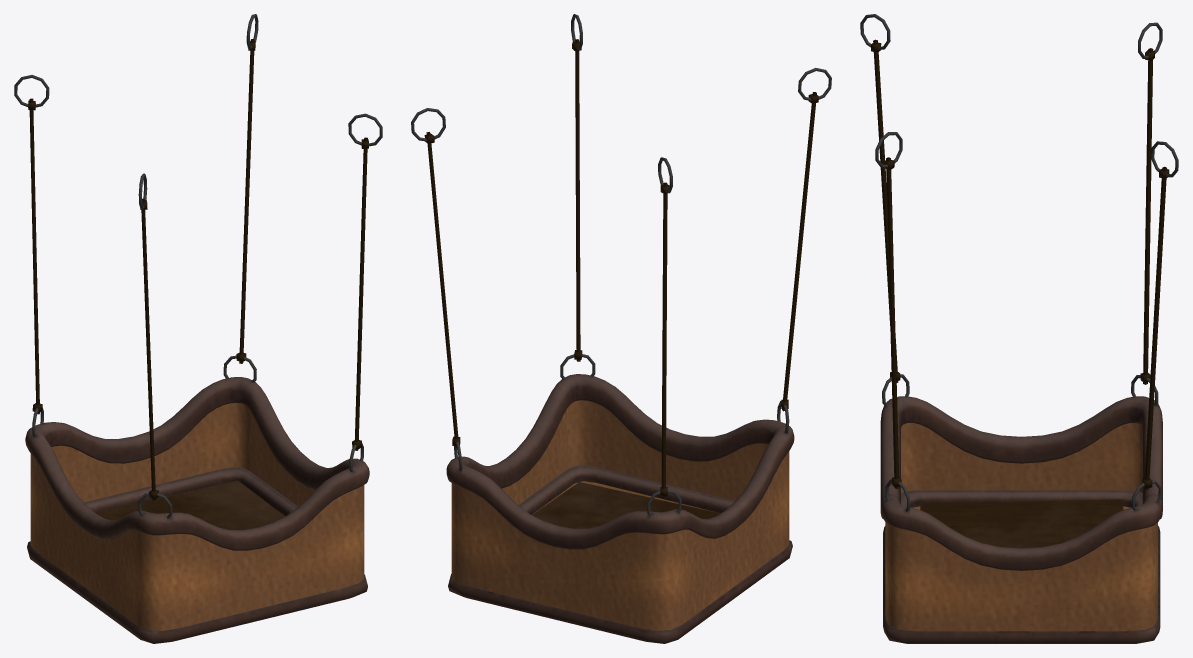
The model's file is Geo_Basket_Final.fbx.
3 views of the same model, side by side, from view 1: azimuth 30°, elevation 25°; view 2: azimuth 150°, elevation 25°; view 3: azimuth 270°, elevation 25° (orthographic). The views are drawn at different scales.
Parts seen in each view (by area): view 1: Geo_Basket; view 2: Geo_Basket; view 3: Geo_Basket.
Part boxes in pixels (<box>): Geo_Basket: <box>14,14,382,643</box>; Geo_Basket: <box>411,14,831,643</box>; Geo_Basket: <box>860,14,1178,643</box>.
Bounding box in the file's own units: 226 × 387 × 219.
1 material, 1 textured.
